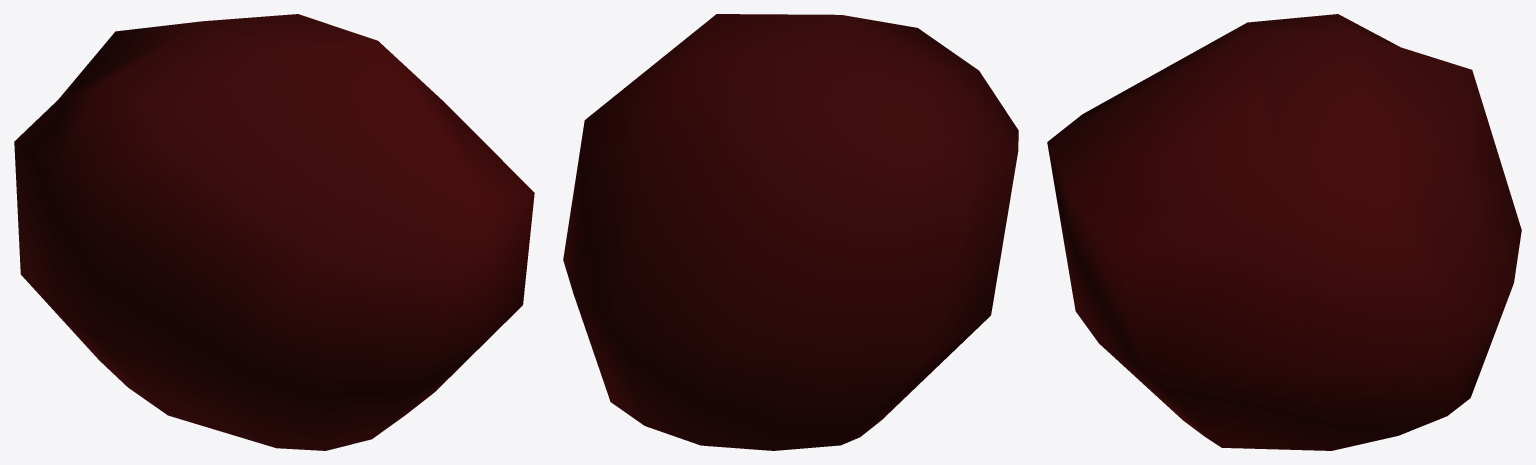
The model's file is geology-pebbles-smalldirtchunk_v1.fbx.
3 views of the same model, side by side, from view 1: azimuth 30°, elevation 25°; view 2: azimuth 150°, elevation 25°; view 3: azimuth 270°, elevation 25° (orthographic). The views are drawn at different scales.
Parts seen in each view (by area): view 1: SmallDirtChunk_v1; view 2: SmallDirtChunk_v1; view 3: SmallDirtChunk_v1.
Boxes of the visible parts, left/top/right/bottom form: SmallDirtChunk_v1: left=14, top=14, right=534, bottom=450; SmallDirtChunk_v1: left=563, top=14, right=1018, bottom=450; SmallDirtChunk_v1: left=1047, top=14, right=1521, bottom=450.
Size of the model in its own units: 2.45 by 2.18 by 2.57.
